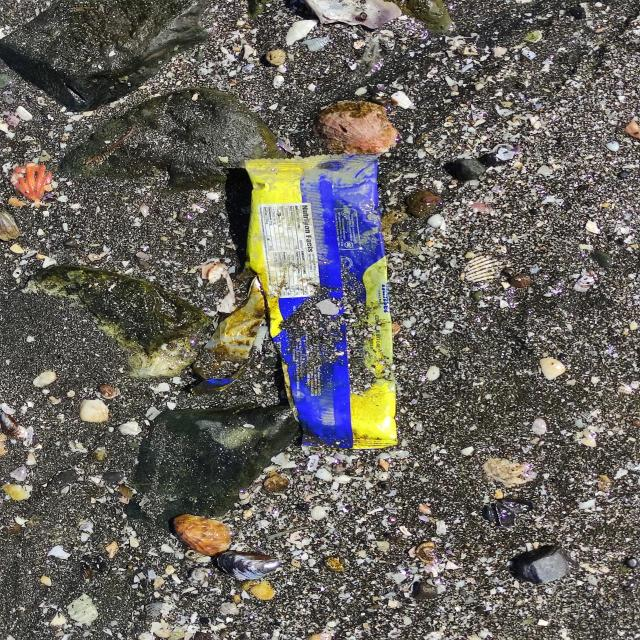plastic_waste: (245, 155, 393, 448)
